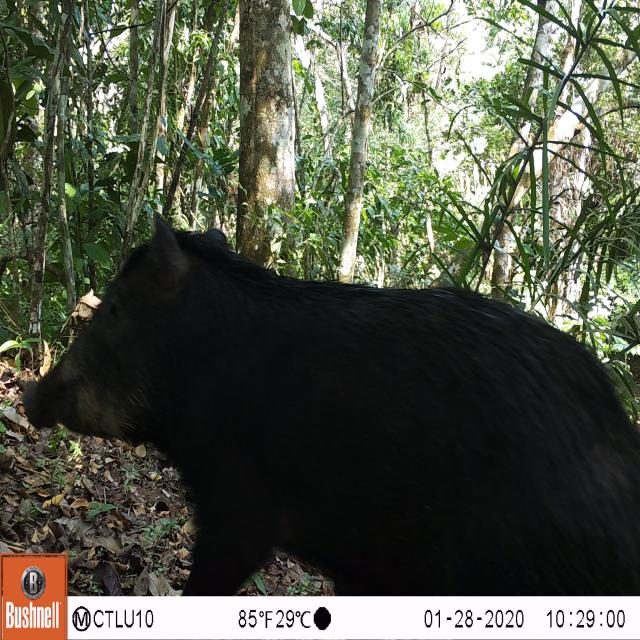White-lipped Peccary: (21, 208, 640, 594)
